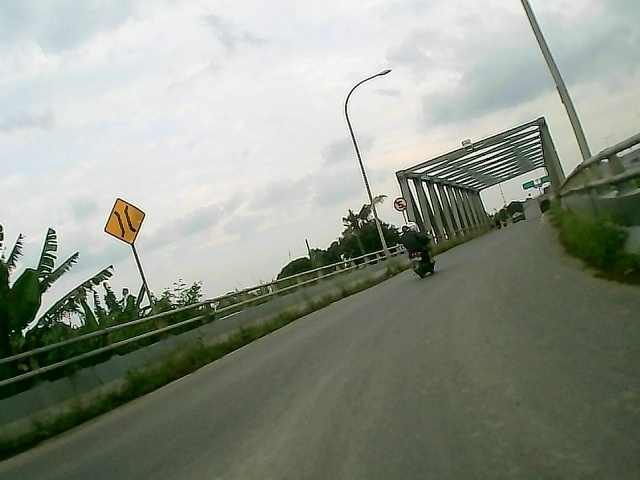Jembatan: (101, 196, 148, 246)
